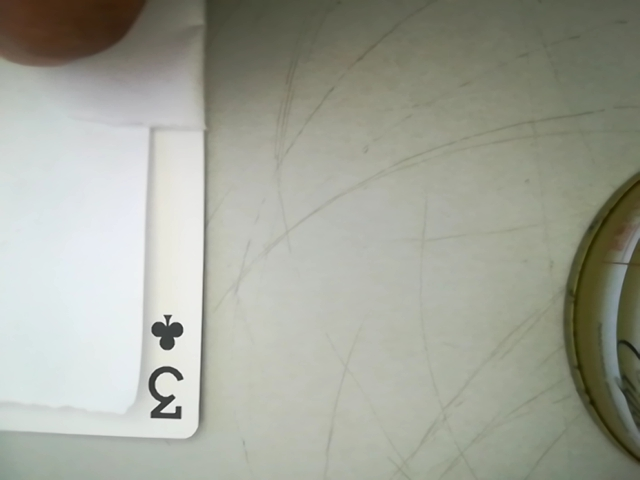mh 3: (131, 295, 197, 433)
